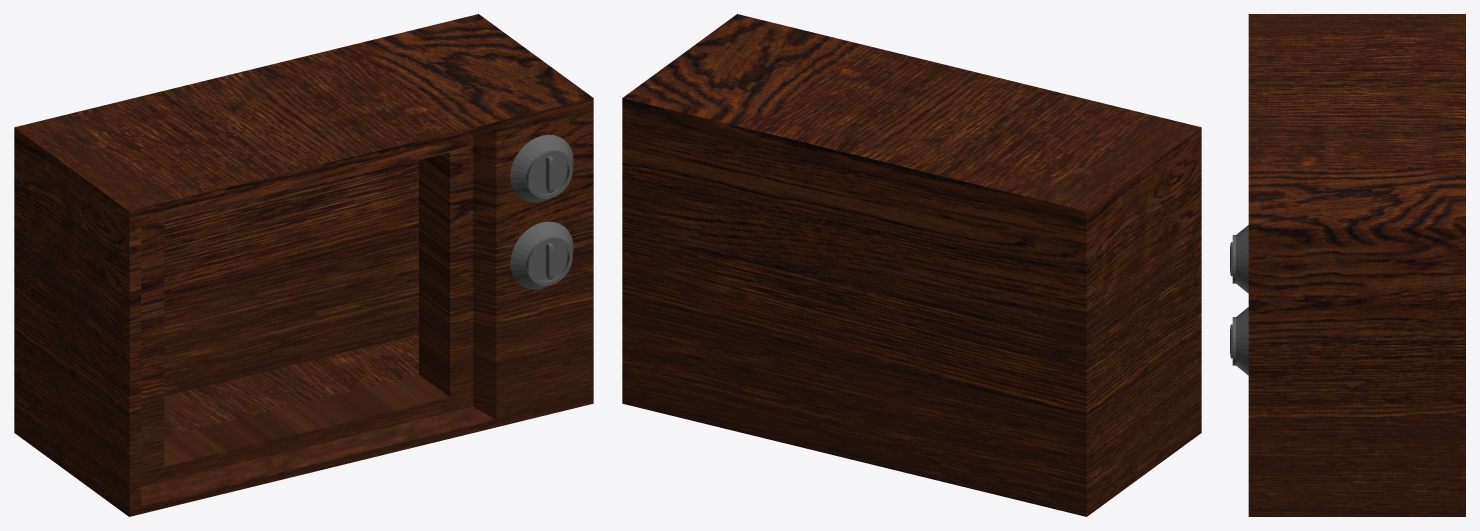
The picture shows the model from 3 angles, left to right: view 1: azimuth 30°, elevation 25°; view 2: azimuth 150°, elevation 25°; view 3: azimuth 270°, elevation 25°; orthographic projection. The views are drawn at different scales.
Visible parts, largest first — view 1: base, Cylinder.001, Cylinder; view 2: base; view 3: base, Cylinder, Cylinder.001.
Boxes of the visible parts, x1,y1,x2,y2 form: base: (14, 14, 593, 516); Cylinder.001: (510, 221, 573, 289); Cylinder: (510, 134, 573, 202); base: (622, 14, 1201, 516); base: (1248, 14, 1465, 516); Cylinder: (1232, 225, 1248, 293); Cylinder.001: (1232, 307, 1248, 375).
Bounding box in the file's own units: 700 × 440 × 326.
3 materials, 1 textured.
